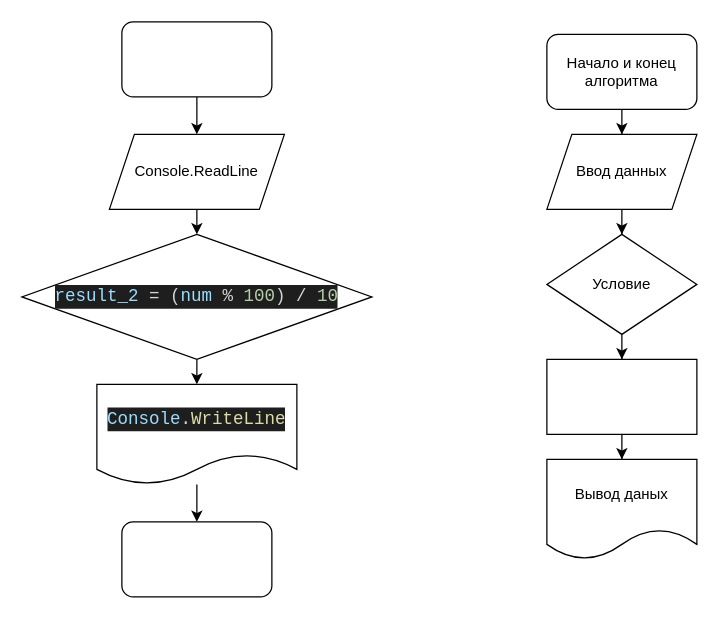
The diagram is 719 pixels wide and 619 high, and some of its shapes have lost their labels. The shapes that lost their labels are listed below. From the top down, each one's box as (x1, y1, x2, y2) in pixels, then its label:
(121, 21, 272, 97): START
(546, 358, 697, 434): Действие
(121, 521, 272, 597): END
